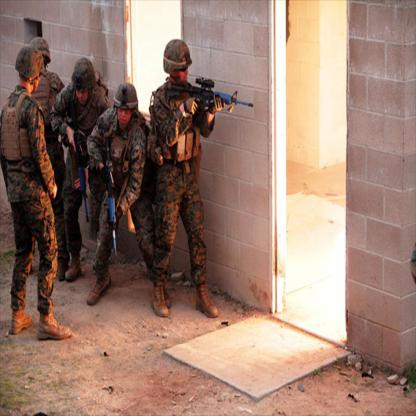face: (118, 102, 133, 124), (176, 60, 189, 83), (77, 84, 89, 104), (32, 67, 42, 89)
